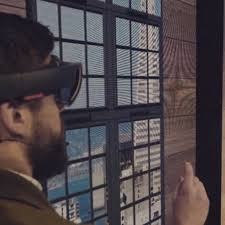hololens: (1, 59, 84, 110)
